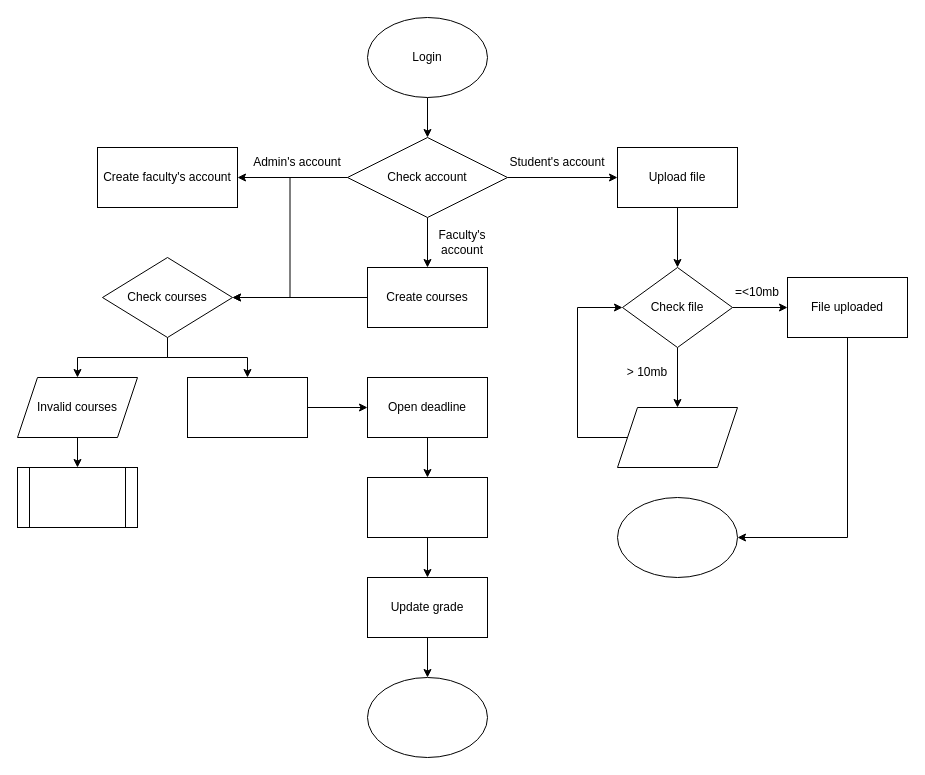
This 925x775 diagram has some shape labels left out. The box of each missing label's shape, as (x1, y1, x2, y2) in pixels:
Cancel courses: (16, 466, 138, 528)
Close courses: (366, 476, 488, 538)
Finish courses: (366, 676, 488, 758)
Notice error: (616, 406, 738, 468)
Notice success: (616, 496, 738, 578)
Valid courses: (186, 376, 308, 438)
